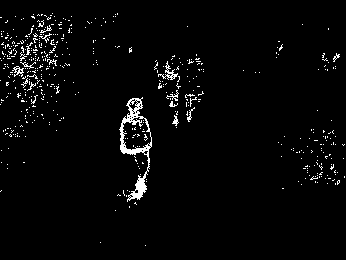person: (114, 95, 152, 203)
